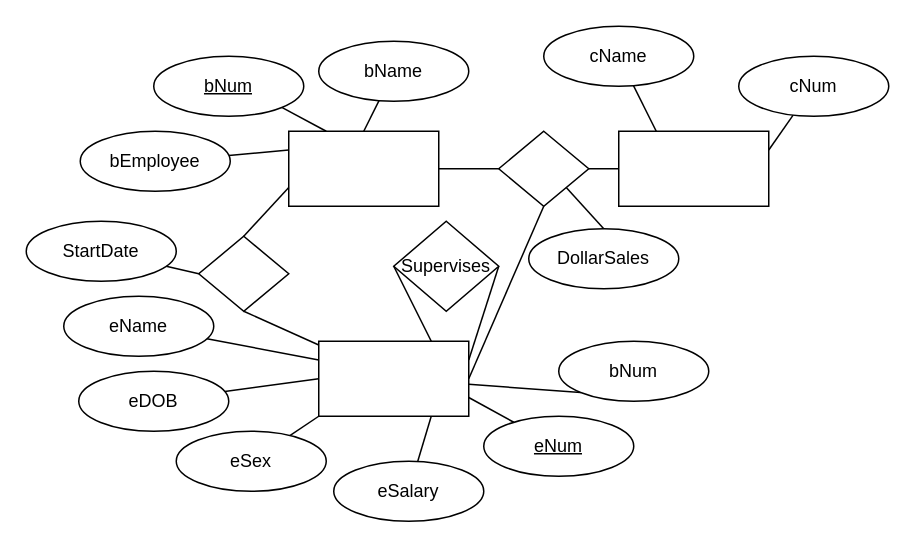
Image size: 915x548. Some labels were removed from this diagram. Here are the shapes that lost their labels. From the top down, the centre of each, then its label:
(363,168): Branch
(543,168): Sells to
(693,168): Client
(243,273): Manages
(393,378): Employee
